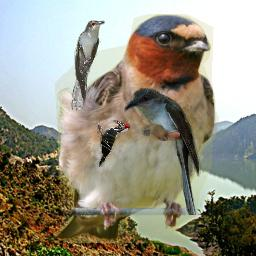Cuckoo: (124, 88, 202, 215), (71, 19, 105, 110)
Swallow: (53, 14, 221, 243)
Woodpecker: (97, 120, 130, 167)
